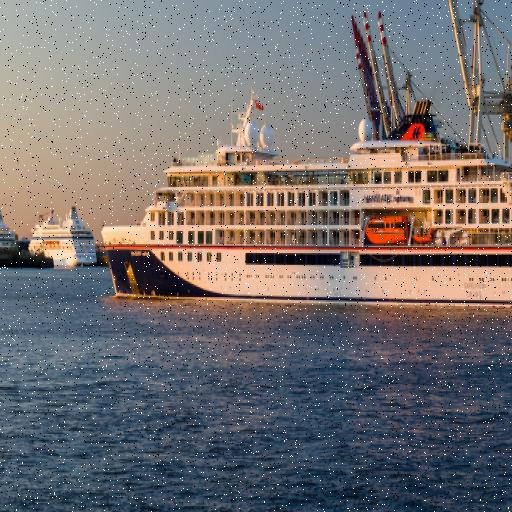cruises: (98, 85, 512, 325), (28, 200, 95, 270), (1, 203, 19, 254)
